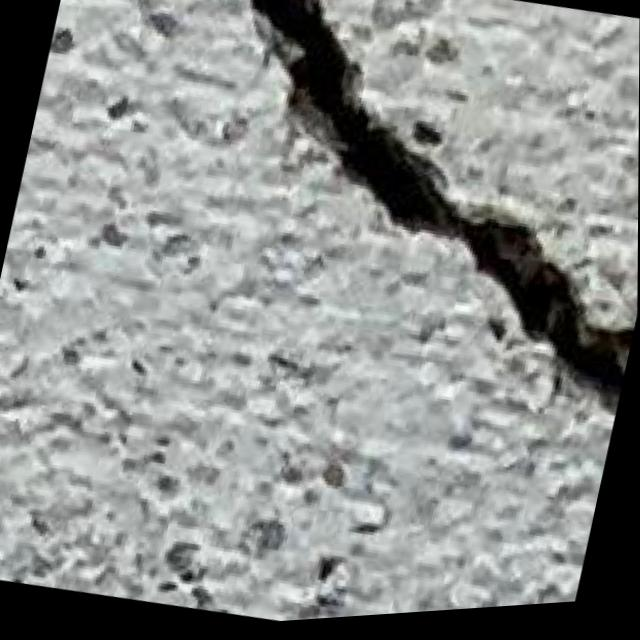Crack: (108, 0, 640, 478)
